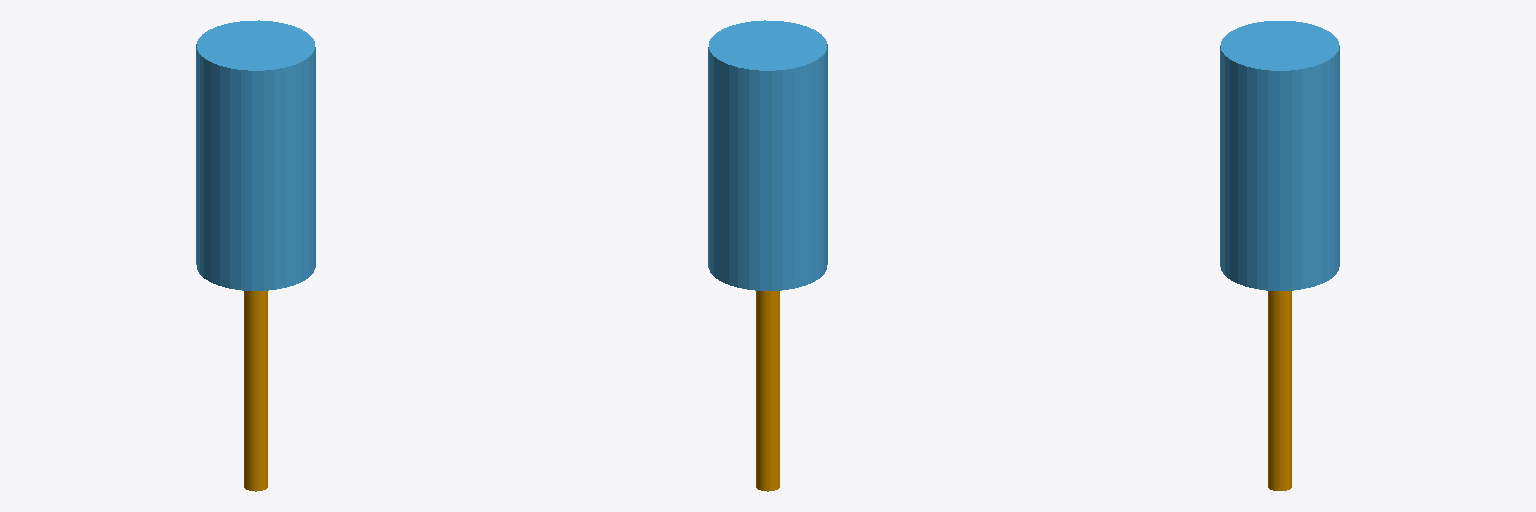
The robot description file, URDF, robot "screwdriver_on_the_table":
<?xml version="1.0" ?>
<!-- this is the one without any virtual joints and links -->
<robot name="screwdriver_on_the_table">
<link name="screwdriver_stick">
    <inertial>
      <mass value="0.05"/>
      <!-- <friction value="1.0"/> -->
      <inertia ixx="0.000041979" ixy="0.0" ixz="0.0" iyy="0.000041979" iyz="0.0" izz="0.000000625"/>
    </inertial>
    <visual>
        <origin rpy="0 0 0" xyz="0 0 0.05"/>
        <geometry>
            <cylinder radius="0.005" length="0.1"/>
        </geometry>
        <!-- <material name="White">
	 	    <color rgba="0.9 0.9 0.9 0.5"/>
        </material> -->
    </visual>
    <collision>
        <origin rpy="0 0 0" xyz="0 0 0.05"/>
        <geometry>
            <cylinder radius="0.005" length="0.1"/>
        </geometry>
    </collision>
</link>

<gazebo reference="screwdriver_body">
    <mu1>1.499139</mu1>
    <mu2>1.303233</mu2>
    <!-- Isaac Sim maps mu1/mu2 to PhysX static/dynamic friction during URDF→USD import -->
</gazebo>

<joint name="screwdriver_stick_body_joint" type="fixed">
    <parent link="screwdriver_stick"/>
    <child link="screwdriver_body"/>
    <origin rpy="0 0 0" xyz="0 0 0.1"/> 
    <axis xyz="0 0 1"/>
</joint>

<link name="screwdriver_body">
    <inertial>
      <mass value="0.057588"/>
      <inertia ixx="0.000056657" ixy="0.0" ixz="0.0" iyy="0.000056657" iyz="0.0" izz="0.000017333"/>
    </inertial>
    <visual>
        <origin rpy="0 0 0" xyz="0 0 0.05"/>
        <geometry>
            <cylinder radius="0.024535" length="0.1"/>
        </geometry>
        <!-- <material name="Red1">
	 	    <color rgba="0.9 0. 0. 0.5"/>
        </material> -->
    </visual>
    <collision>
        <origin rpy="0 0 0" xyz="0 0 0.05"/>
        <geometry>
            <cylinder radius="0.024535" length="0.1"/>
        </geometry>
    </collision>
</link>

<!-- <joint name="screwdriver_body_cap_joint" type="revolute">
    <parent link="screwdriver_body"/>
    <child link="screwdriver_cap"/>
    <origin rpy="0 0 0" xyz="0 0 0.1"/> 
    <axis xyz="0 0 1"/>
</joint>

<link name="screwdriver_cap">
    <inertial>
      <mass value="0.005"/>
      <inertia ixx="0.00001" ixy="0.0" ixz="0.0" iyy="0.000005" iyz="0.0" izz="0.000005"/>
    </inertial>
    <visual>
        <origin rpy="0 0 0" xyz="0 0 0.0006"/>
        <geometry>
            <cylinder radius="0.02" length="0.001"/>
        </geometry>
        <material name="Yellow">
	 	    <color rgba="0.9 0.9 0. 1.0"/>
        </material>
    </visual>
    <collision>
        <origin rpy="0 0 0" xyz="0 0 0.0005"/>
        <geometry>
            <cylinder radius="0.02" length="0.001"/>
        </geometry>
    </collision>
</link> -->

</robot>

--- What the picture shows (computed from the rendered views, not written in the file) ---
Views: 3 orthographic renders of the robot side by side, from view 1: azimuth 30°, elevation 25°; view 2: azimuth 150°, elevation 25°; view 3: azimuth 270°, elevation 25°.
Robot: screwdriver_on_the_table — 2 links, 1 joints (1 fixed); root link screwdriver_stick; default pose: every joint at zero.
Visible links, largest first — view 1: screwdriver_body, screwdriver_stick; view 2: screwdriver_body, screwdriver_stick; view 3: screwdriver_body, screwdriver_stick.
Link boxes in pixels (bbox=[...]): screwdriver_body: bbox=[196, 20, 315, 290]; screwdriver_stick: bbox=[244, 291, 267, 491]; screwdriver_body: bbox=[708, 20, 827, 290]; screwdriver_stick: bbox=[756, 291, 779, 491]; screwdriver_body: bbox=[1220, 21, 1339, 290]; screwdriver_stick: bbox=[1268, 291, 1291, 490].
Bounding box of the posed robot: 0.0491 × 0.0491 × 0.2 m (x, y, z).
Geometry: primitives only (box / cylinder / sphere), no mesh files.
